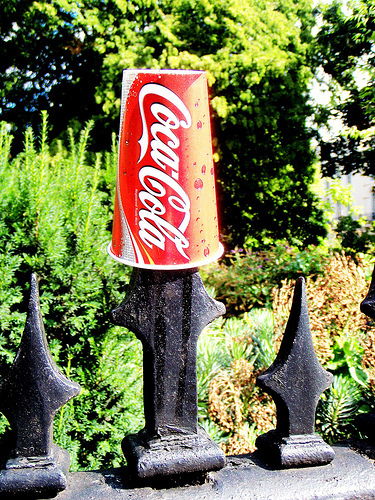litter: (110, 66, 223, 269)
